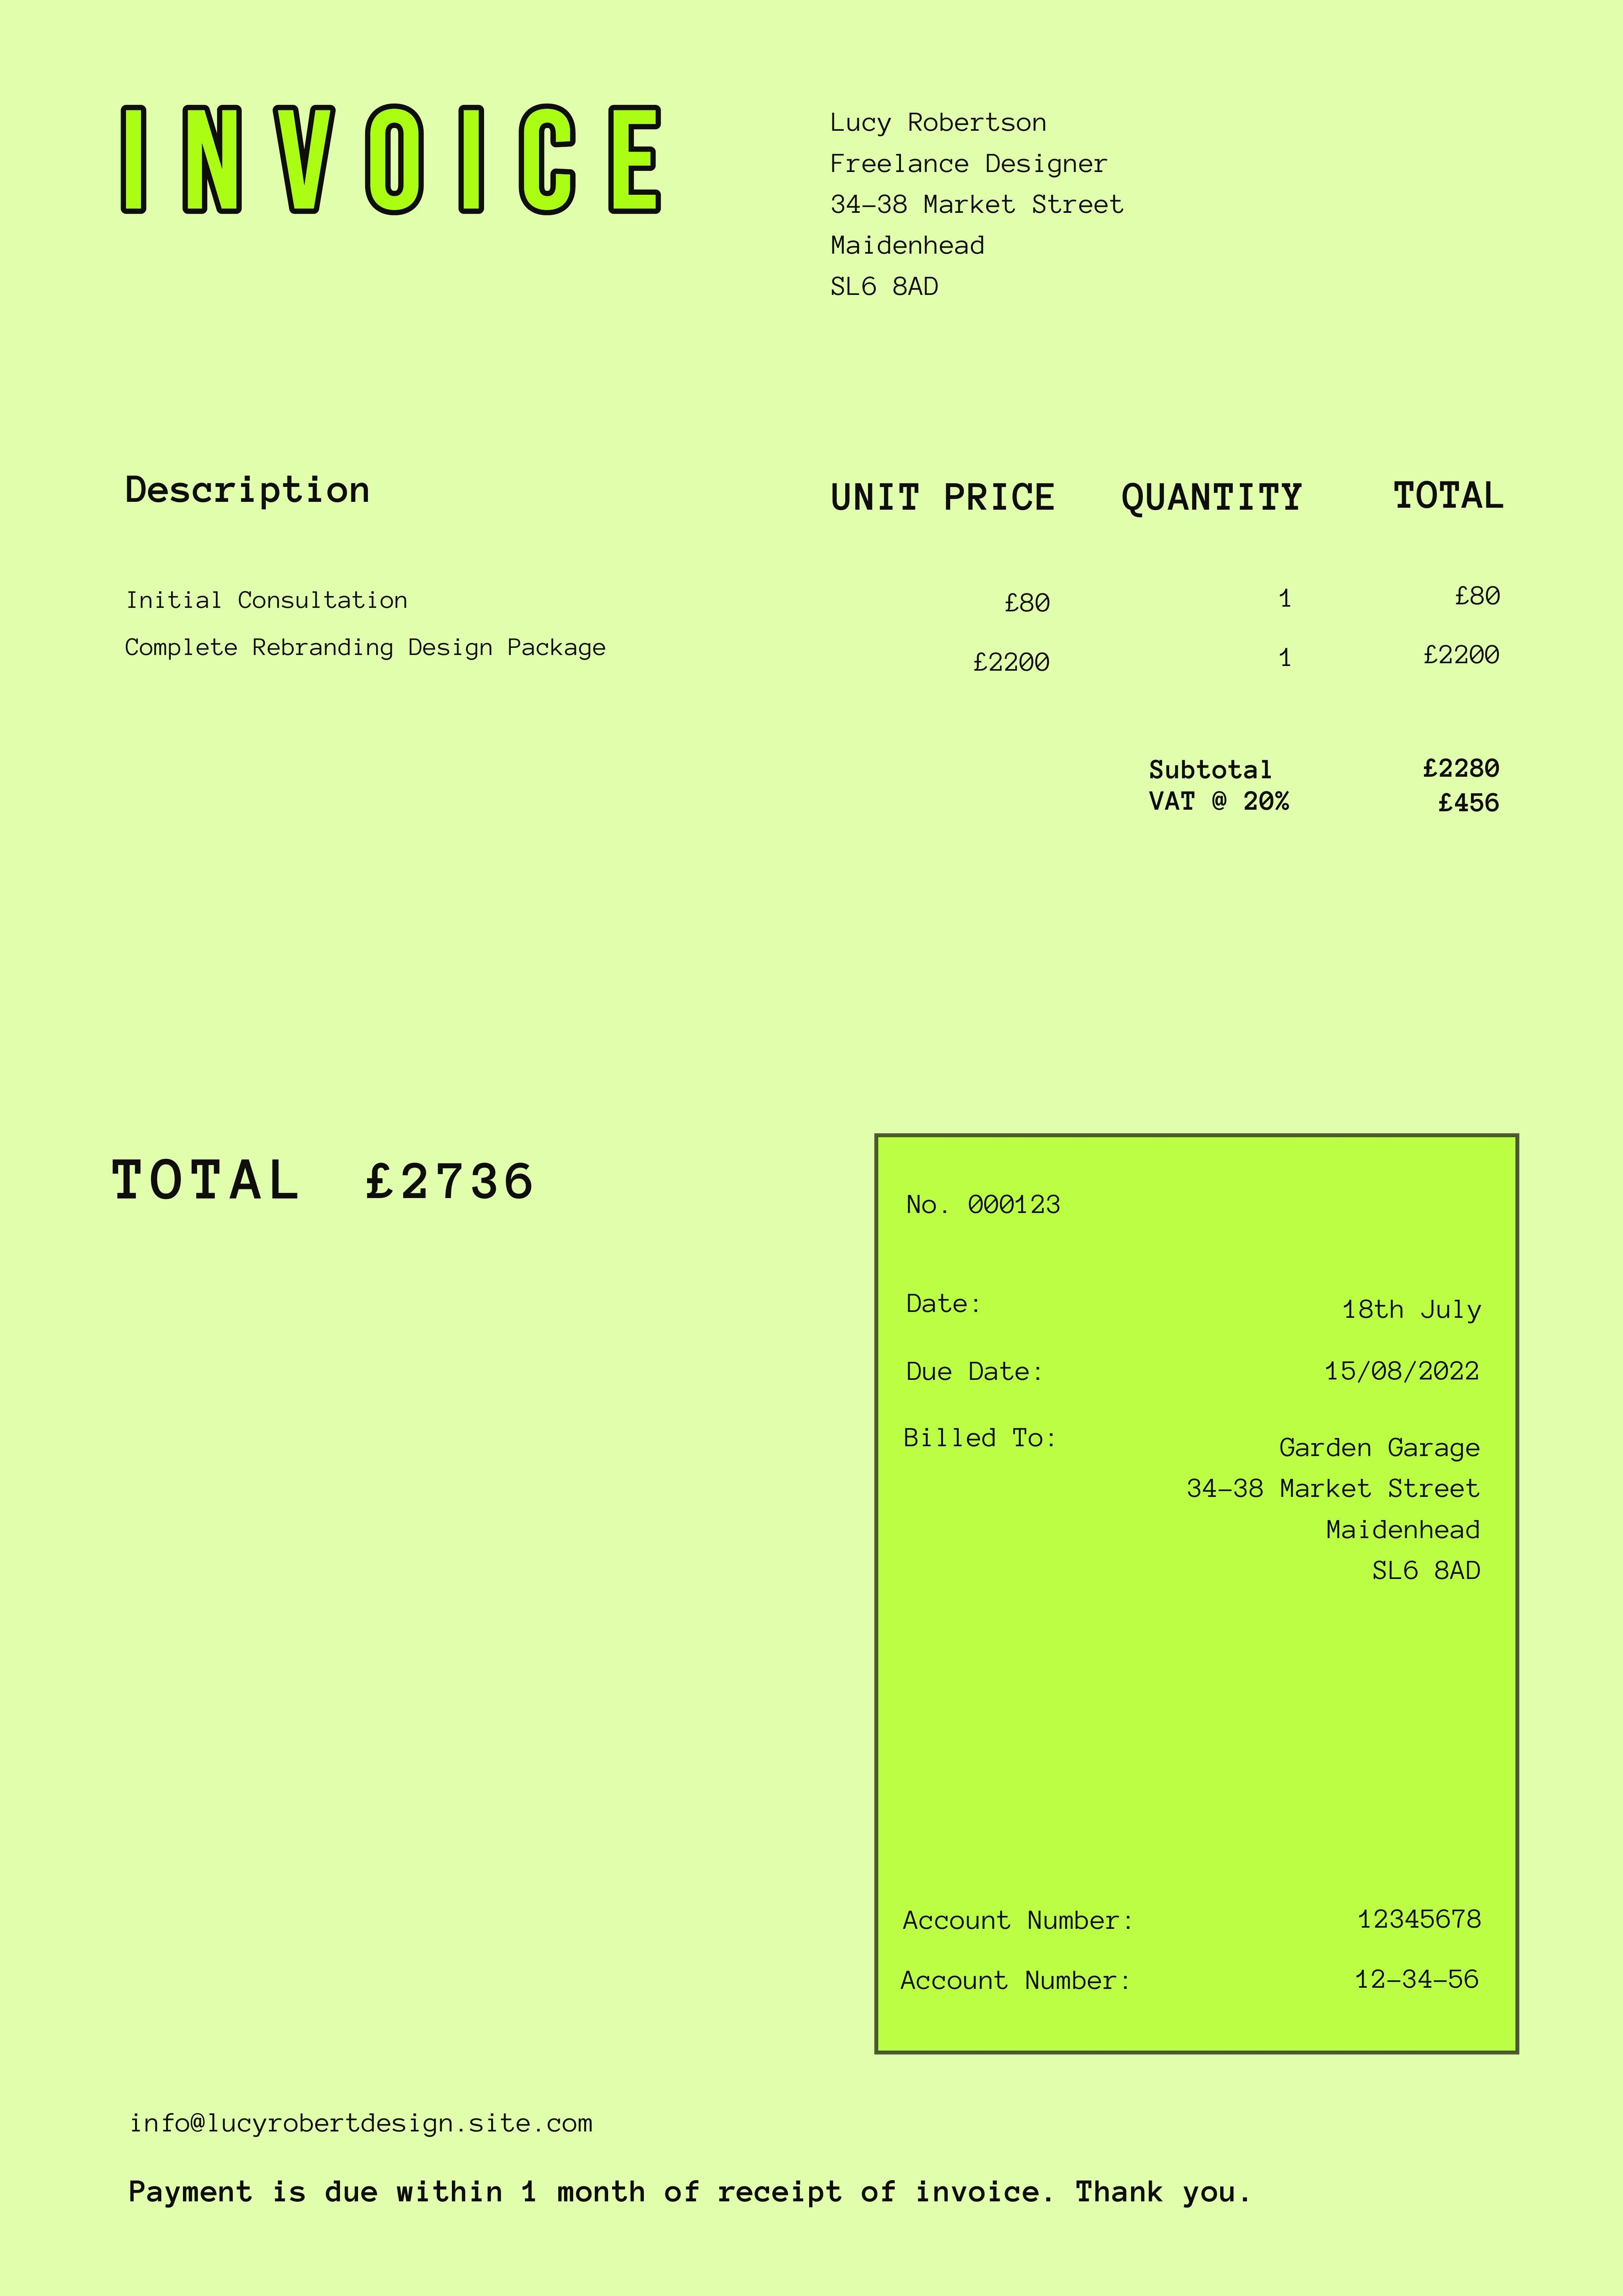ROI: (108, 469, 1531, 839), (890, 1173, 1500, 1400), (894, 1423, 1480, 1590), (817, 82, 1146, 322), (892, 1898, 1498, 2016), (103, 1130, 564, 1219)
